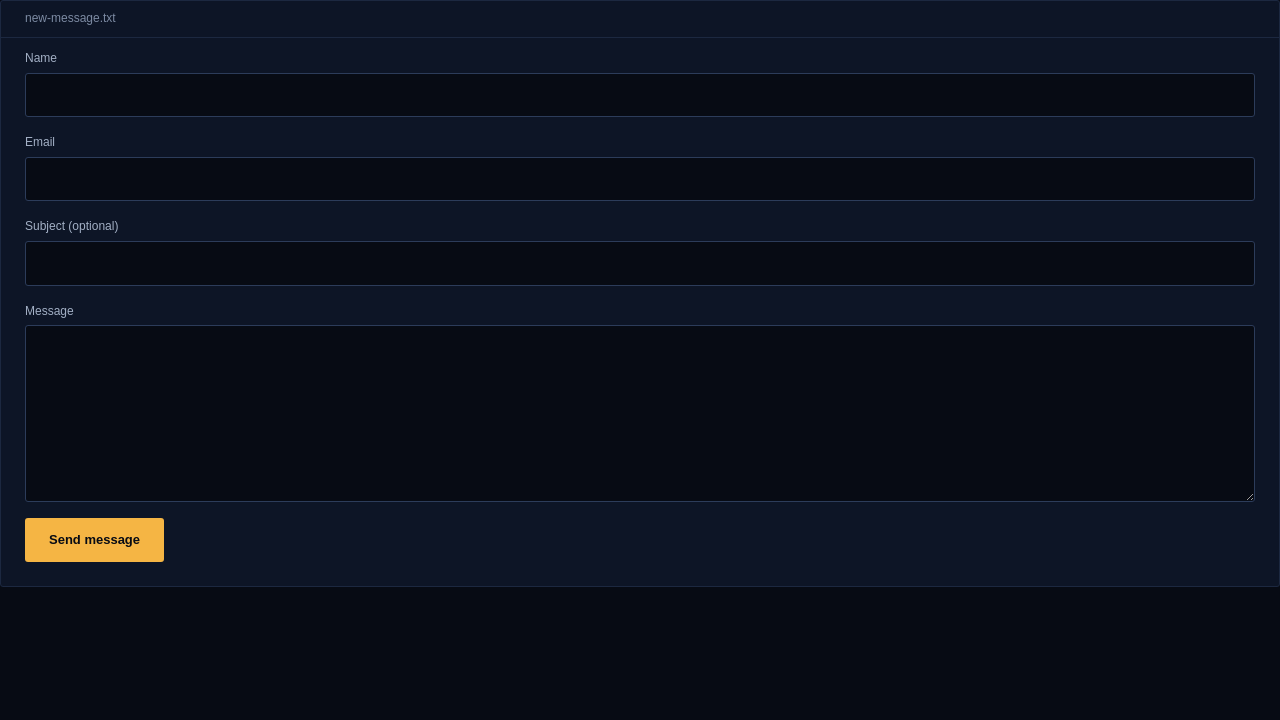
Test: ContactForm › explains a failed send and offers the email address instead
Type "Ada Lovelace" into the field labelled "Name".
click(640, 95); type("Ada Lovelace")  # box top-left (25, 73), bottom-right (1255, 117)
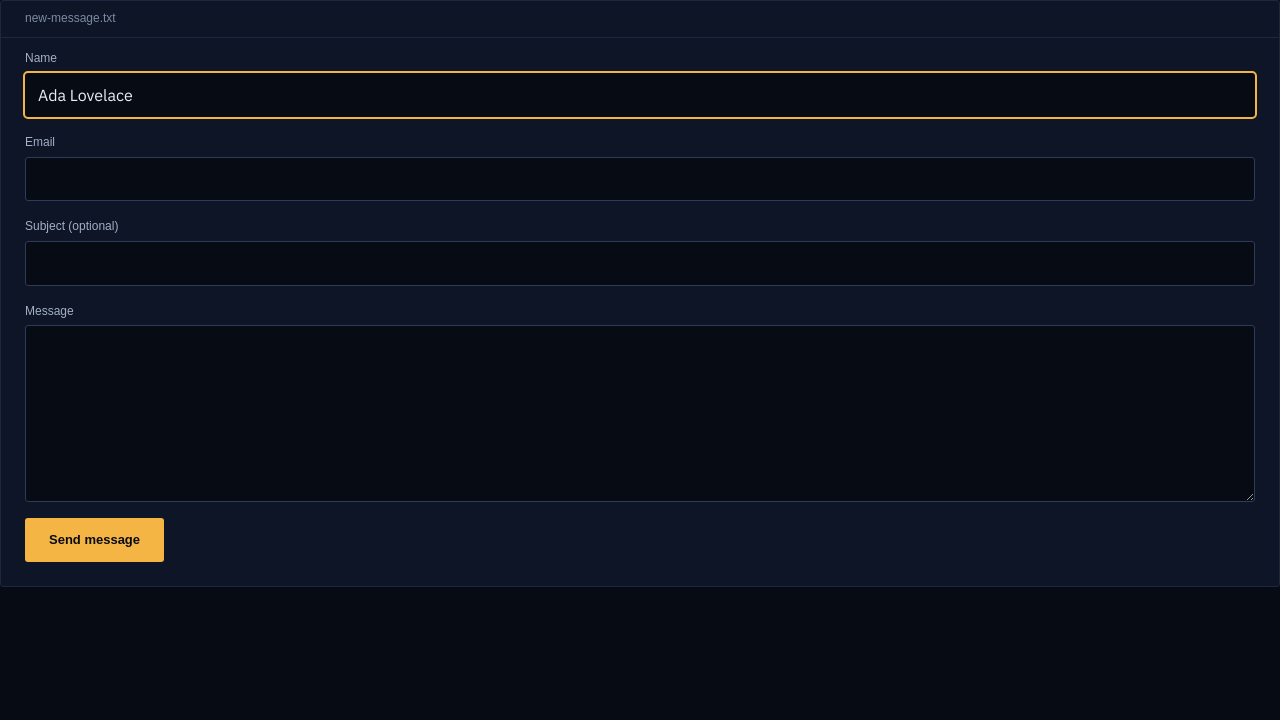
Type "ada@example.com" into the field labelled "Email".
click(640, 179); type("ada@example.com")  # box top-left (25, 157), bottom-right (1255, 201)
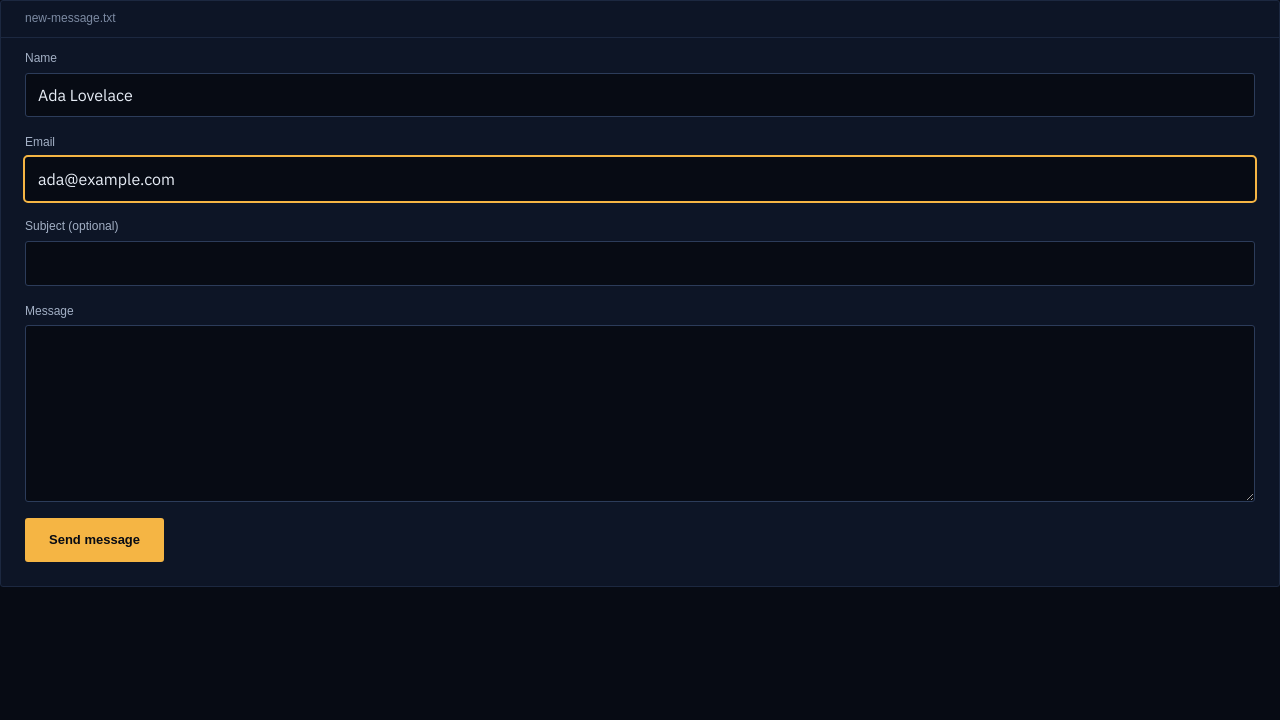
Type "Project" into the field labelled "Subject (optional)".
click(640, 263); type("Project")  # box top-left (25, 241), bottom-right (1255, 286)
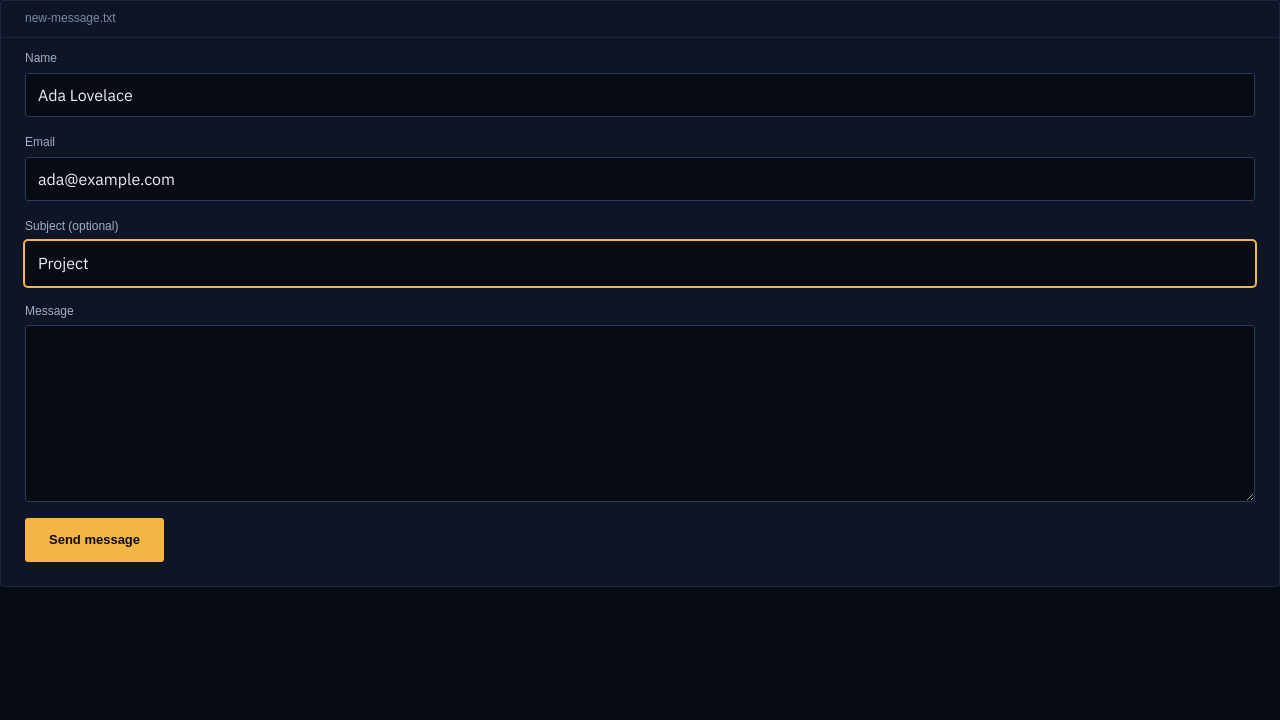
Type "I would like to talk about a project." into the text box labelled "Message".
click(640, 414); type("I would like to talk about a project.")  # box top-left (25, 325), bottom-right (1255, 502)
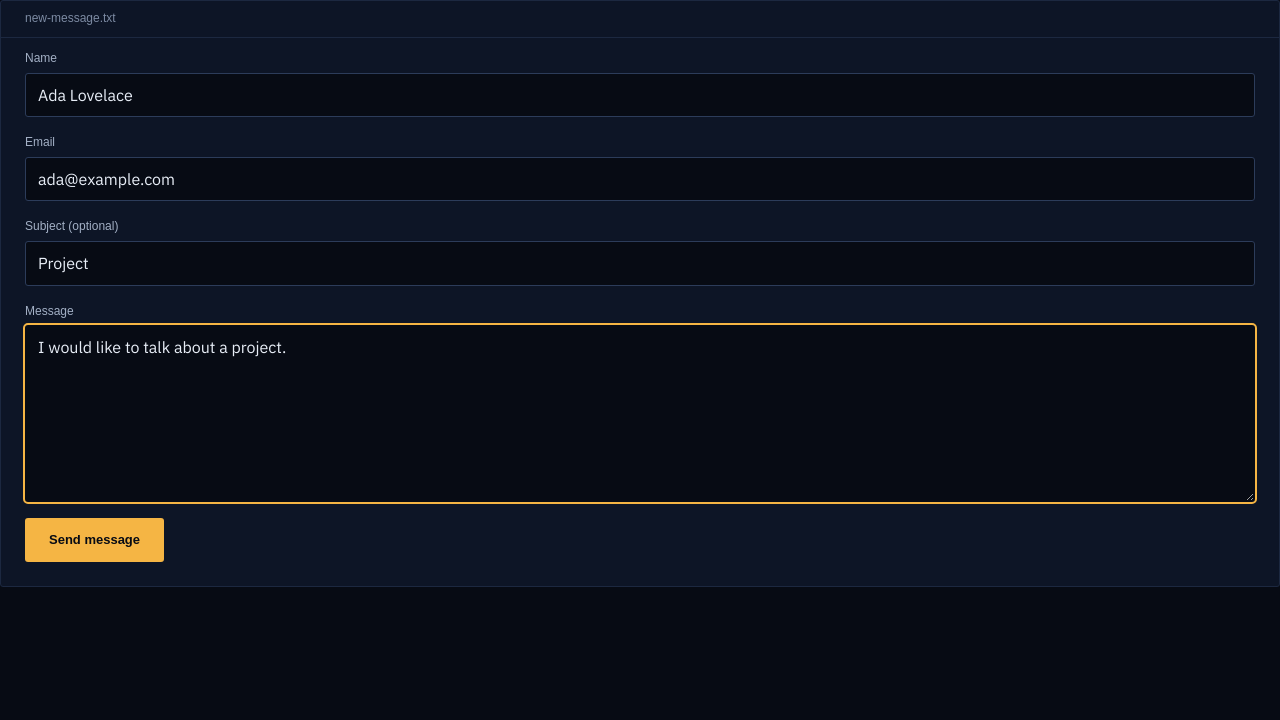
Click the button "Send message".
click(94, 540)  # box top-left (25, 518), bottom-right (164, 562)
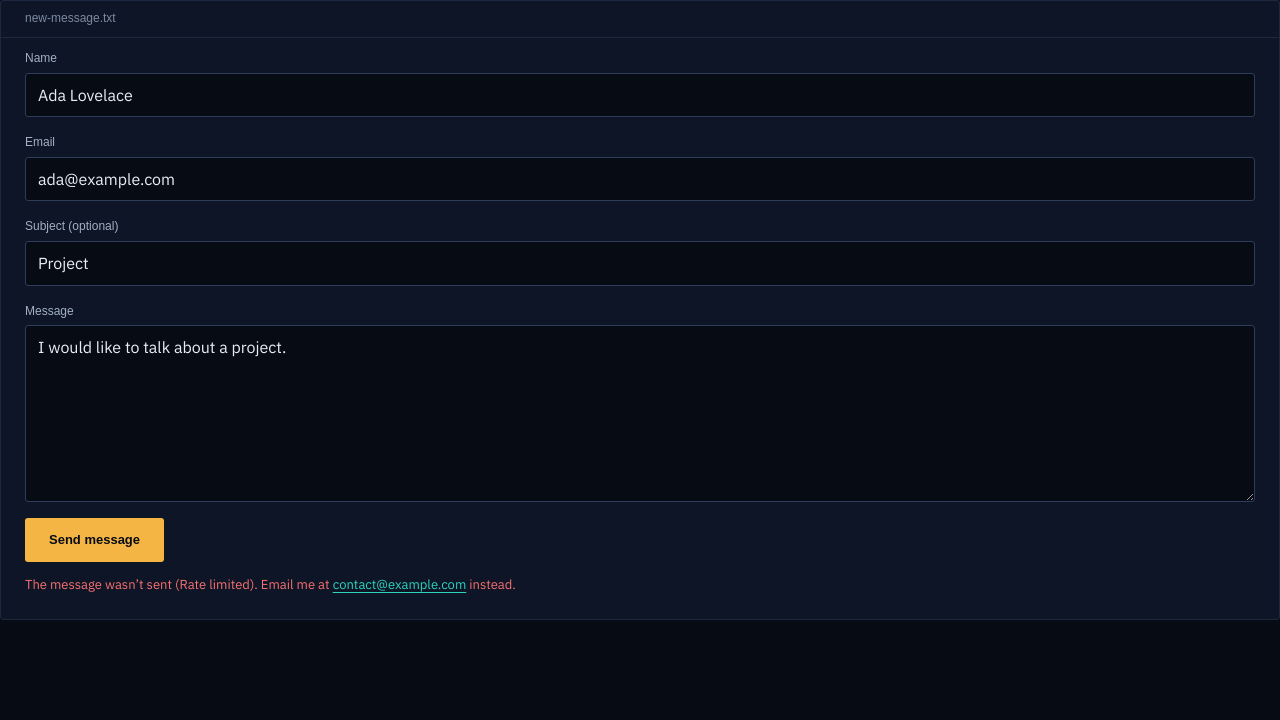
Check: the message shows "The message wasn’t sent (Rate limited).", box top-left (25, 576), bottom-right (516, 593)
Check: the message shows "contact@example.com", box top-left (333, 576), bottom-right (466, 593)
